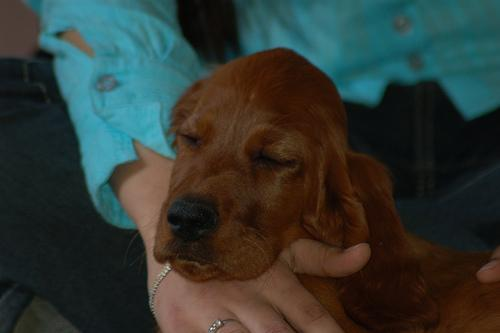Irish_setter: (148, 44, 499, 332)
